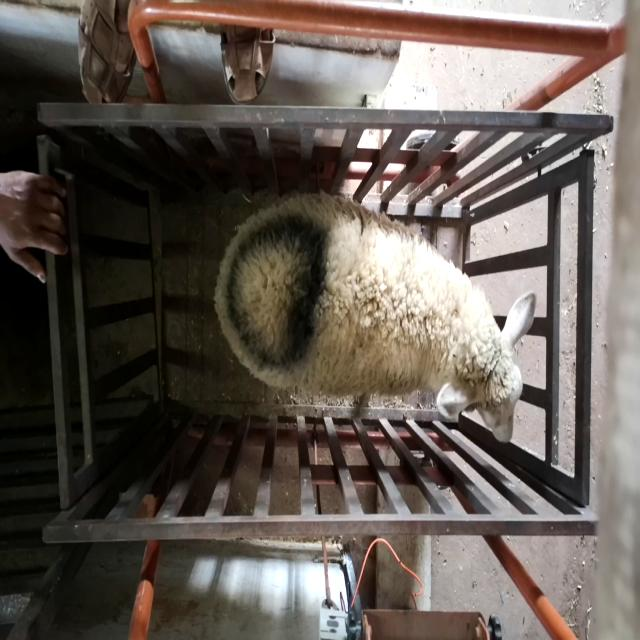sheep: (214, 194, 537, 444)
